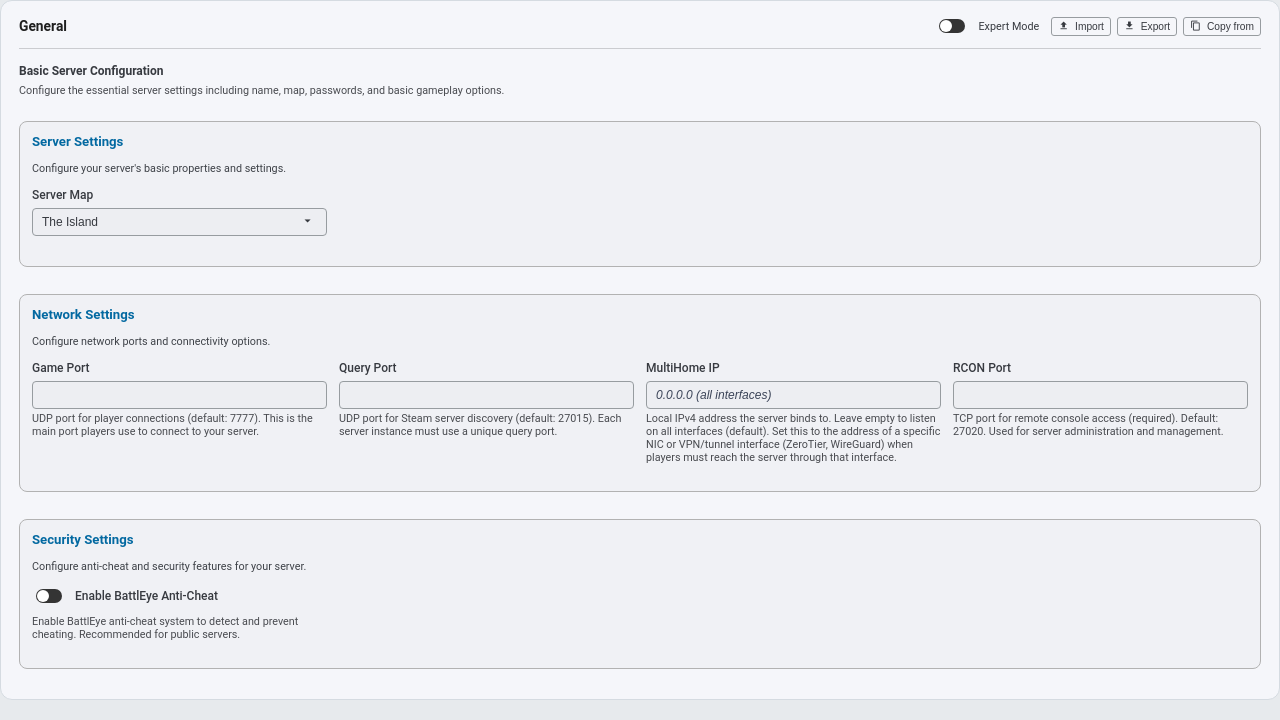
Test case: ServerSettingsComponent › the map field › does not save a cleared name and says why
Clear the 1st field at (180, 222), box [32,208,327,236]
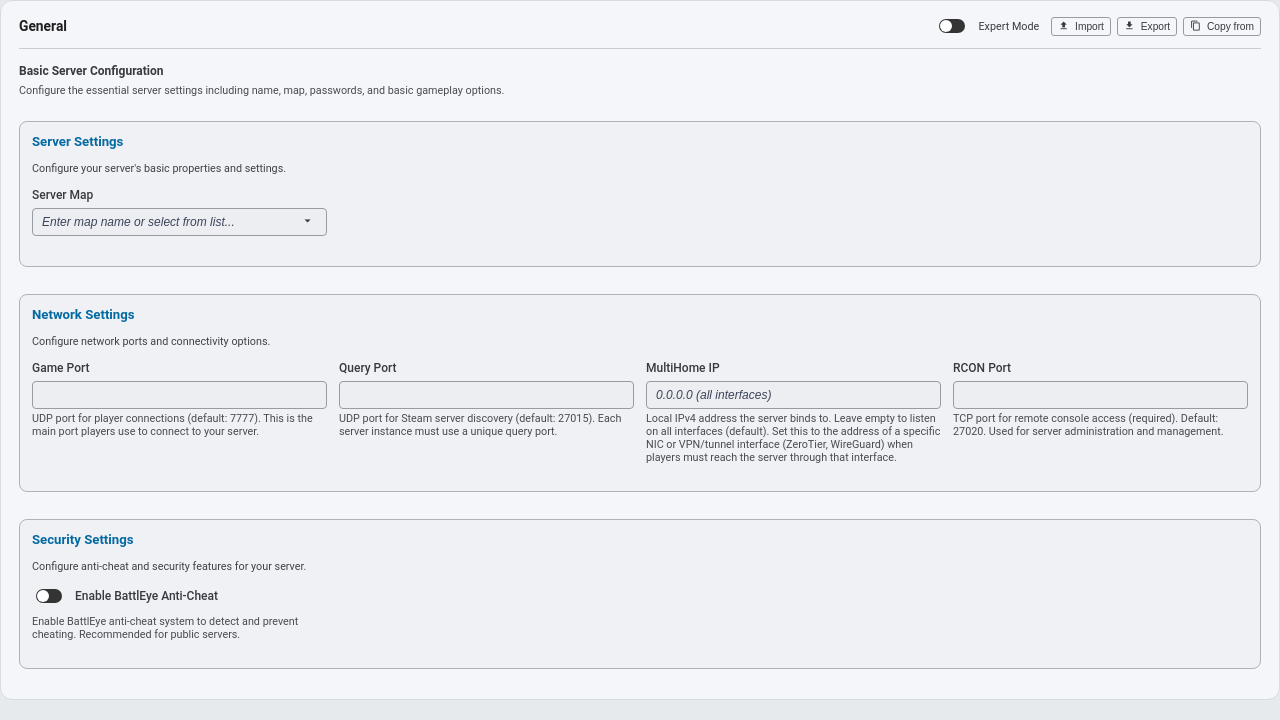
Leave the field with placeholder "Enter map name or select from list...", box [32,208,327,236]
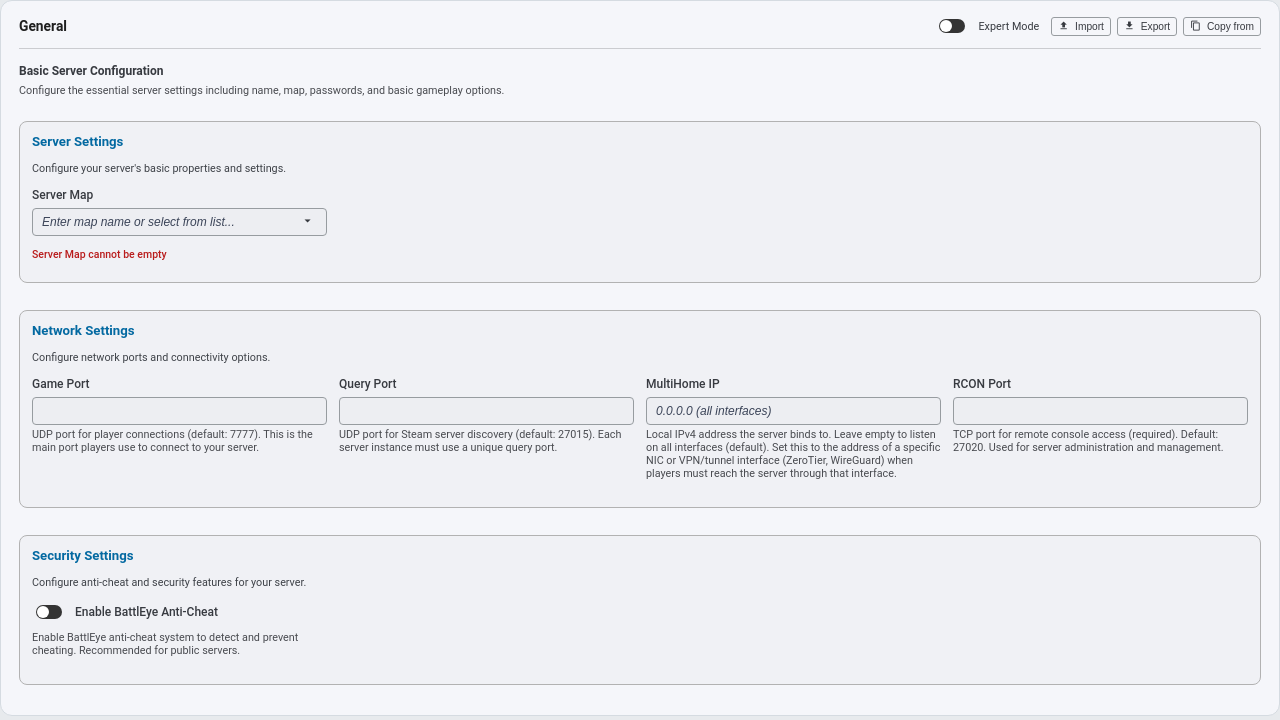
Result: the text "Server Map cannot be empty" is shown at [32,248,167,261]
